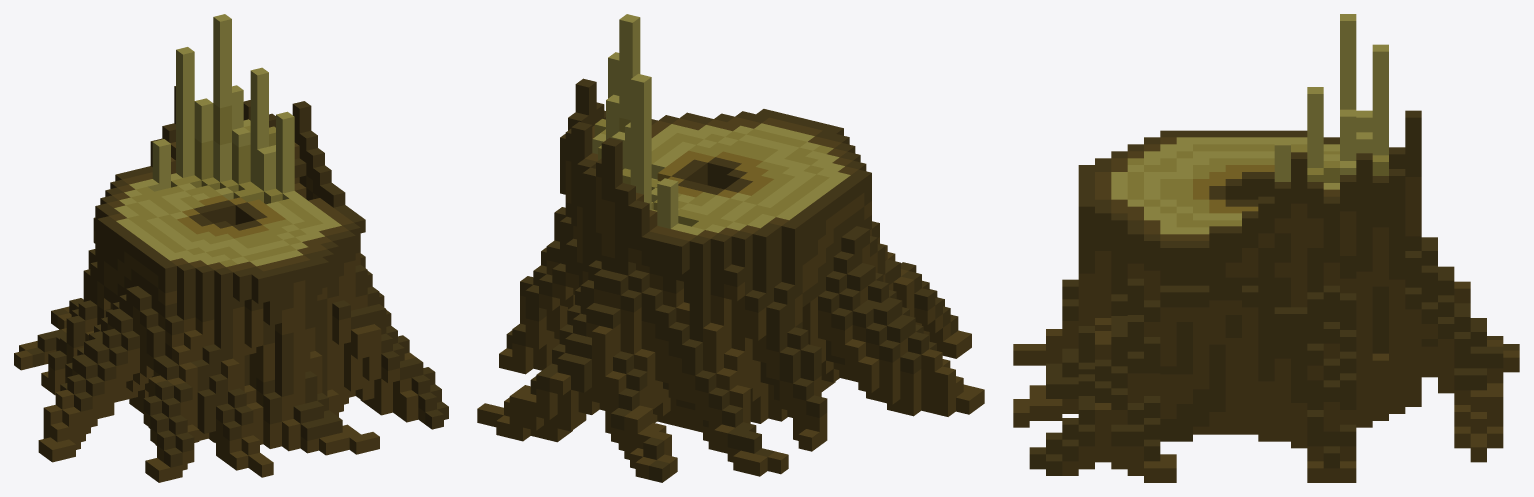
File: Treestump1.obj
The picture shows the model from 3 angles, left to right: view 1: azimuth 30°, elevation 25°; view 2: azimuth 150°, elevation 25°; view 3: azimuth 270°, elevation 25°; orthographic projection. The views are drawn at different scales.
Parts seen in each view (by area): view 1: Treestump1; view 2: Treestump1; view 3: Treestump1.
Part boxes in pixels (<box>): Treestump1: <box>14,14,448,482</box>; Treestump1: <box>477,14,984,482</box>; Treestump1: <box>1013,14,1519,482</box>.
Size of the model in its own units: 3 by 2.7 by 3.1.
1 material, 1 textured.
